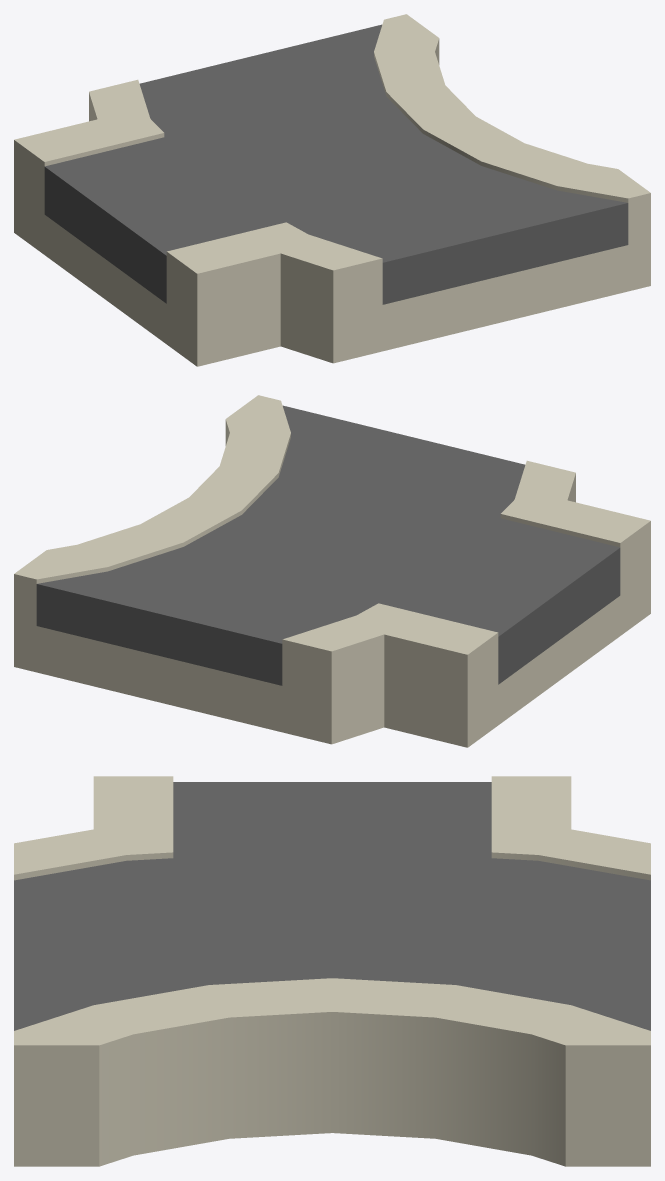
The model's file is roadTile_127.obj.
3 renders of one model, top to bottom at view 1: azimuth 30°, elevation 25°; view 2: azimuth 150°, elevation 25°; view 3: azimuth 270°, elevation 25°, orthographic. The views are drawn at different scales.
Visible parts, largest first — view 1: Mesh1_Group1_Model.126; view 2: Mesh1_Group1_Model.126; view 3: Mesh1_Group1_Model.126.
Boxes of the visible parts, bbox=[...] form: Mesh1_Group1_Model.126: bbox=[14, 14, 650, 366]; Mesh1_Group1_Model.126: bbox=[14, 395, 650, 747]; Mesh1_Group1_Model.126: bbox=[14, 776, 650, 1166].
Bounding box in the file's own units: 3 × 0.63 × 3.
